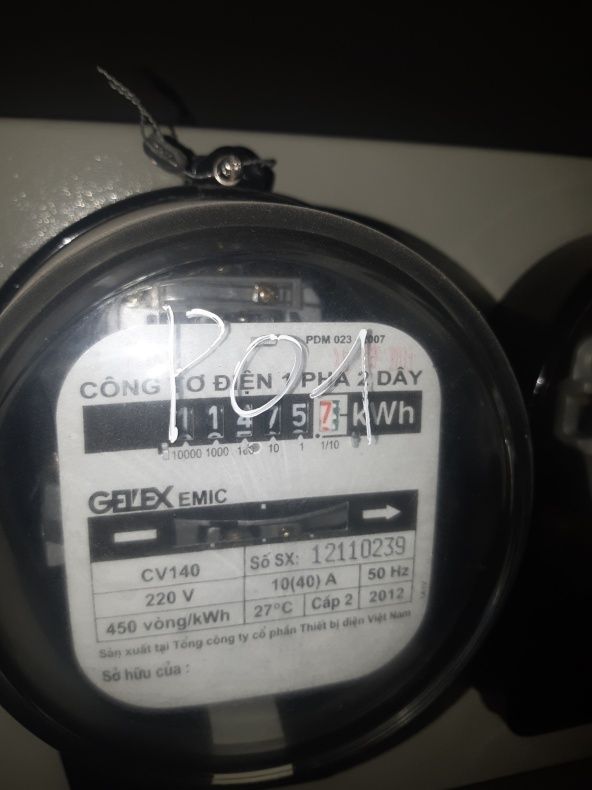counter: (80, 398, 429, 438)
electricity_meter: (5, 198, 527, 772)
